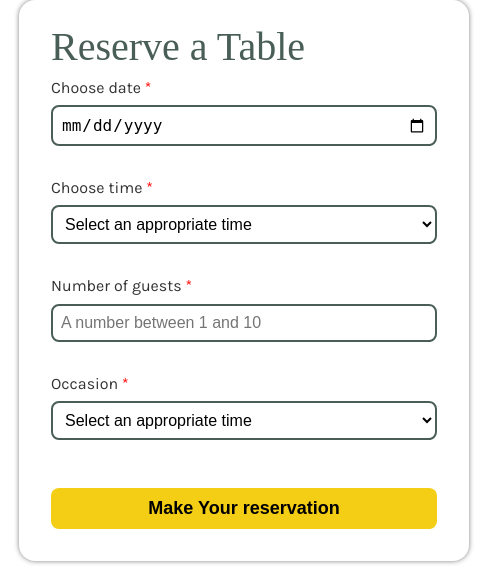
BookingForm › Submit button is pressed without filling forms fields
Click the button "Make Your reservation": (244, 508) [51, 488, 437, 529]
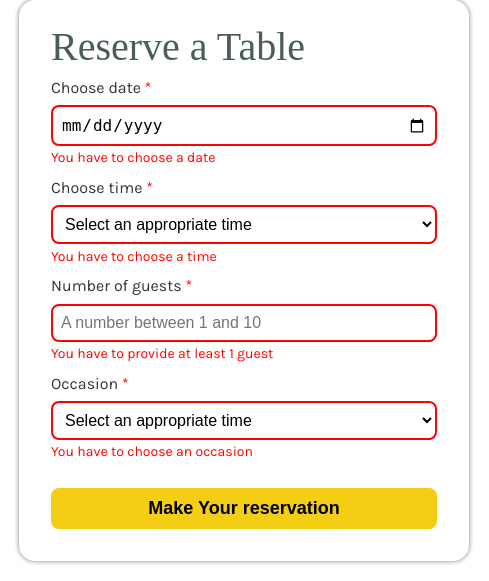
expect the text "You have to choose a date" is shown: met, box [51, 150, 216, 167]
expect the text "You have to choose a time" is shown: met, box [51, 249, 217, 265]
expect the text "You have to provide at least 1 guest" is shown: met, box [51, 346, 273, 363]
